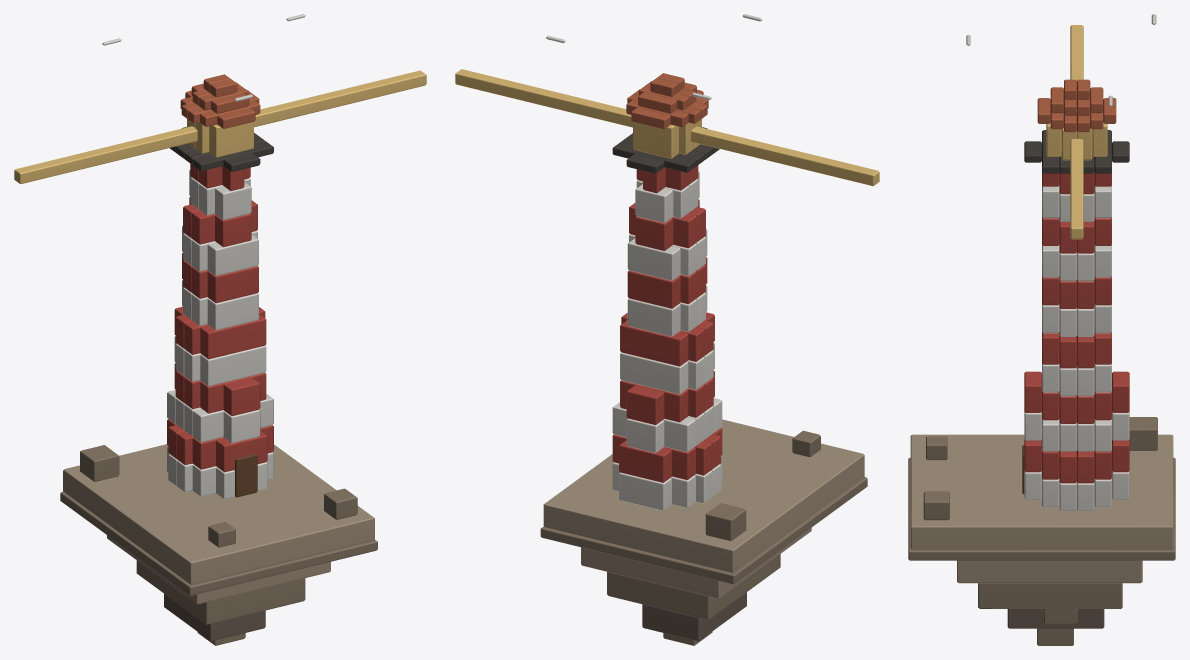
Rendered from region_09.glb.
3 renders of one model, left to right at view 1: azimuth 30°, elevation 25°; view 2: azimuth 150°, elevation 25°; view 3: azimuth 270°, elevation 25°, orthographic. The views are drawn at different scales.
Visible parts, largest first — view 1: region_09_static, region_09_beam, region_09_glow; view 2: region_09_static, region_09_beam, region_09_glow; view 3: region_09_static, region_09_beam, region_09_glow.
Part boxes in pixels (x1,y1,x2,y2): region_09_static: (60, 74, 377, 645); region_09_beam: (14, 70, 426, 184); region_09_glow: (187, 119, 253, 157); region_09_static: (540, 73, 867, 645); region_09_beam: (455, 69, 879, 186); region_09_glow: (633, 119, 701, 158); region_09_static: (908, 79, 1175, 645); region_09_beam: (1070, 25, 1083, 239); region_09_glow: (1046, 123, 1107, 160).
Bounding box in the file's own units: 11 × 14.86 × 6.1.
